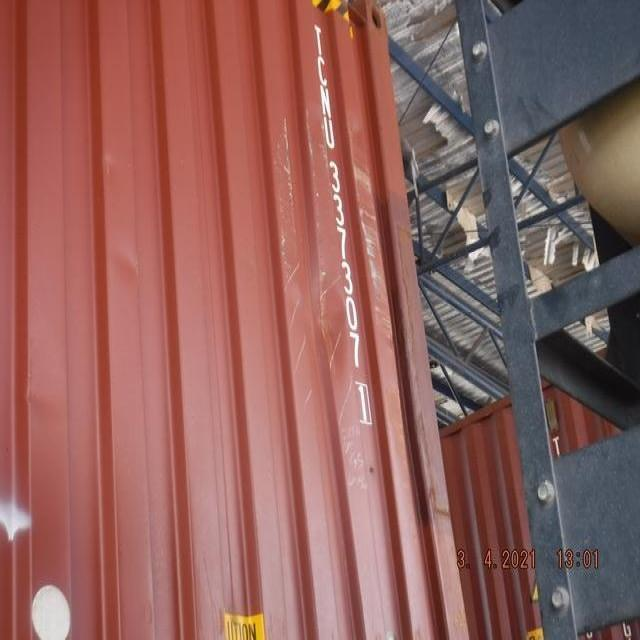Minor-Dent: (279, 275, 375, 373)
